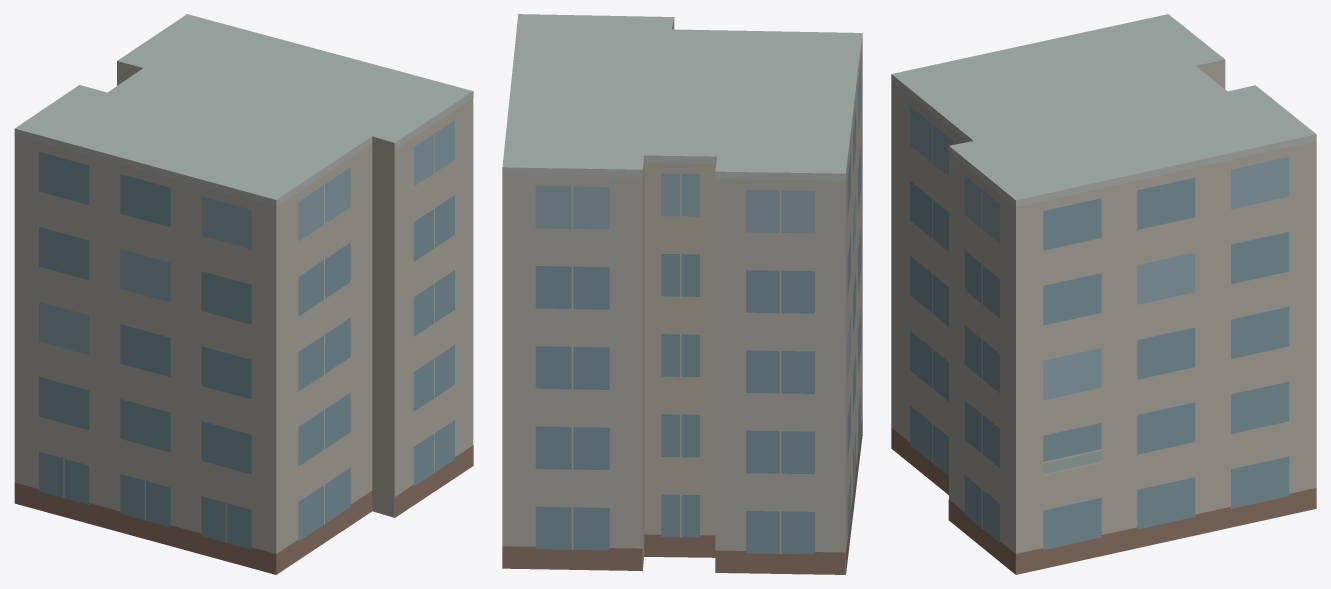
File: survey-upis-33008496.glb
3 views of the same model, side by side, from view 1: azimuth 30°, elevation 25°; view 2: azimuth 150°, elevation 25°; view 3: azimuth 270°, elevation 25° (orthographic). The views are drawn at different scales.
Parts seen in each view (by area): view 1: survey-upis-33008496.tmp; view 2: survey-upis-33008496.tmp; view 3: survey-upis-33008496.tmp.
Boxes of the visible parts, x1,y1,x2,y2 form: survey-upis-33008496.tmp: (14, 14, 473, 574); survey-upis-33008496.tmp: (502, 14, 862, 574); survey-upis-33008496.tmp: (891, 14, 1316, 574).
Size of the model in its own units: 14.31 by 13.4 by 13.8.
